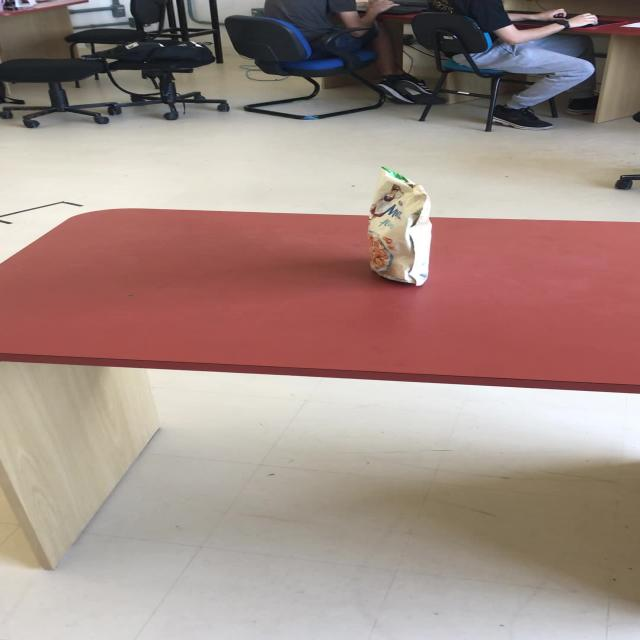corn flakes: (364, 166, 432, 286)
